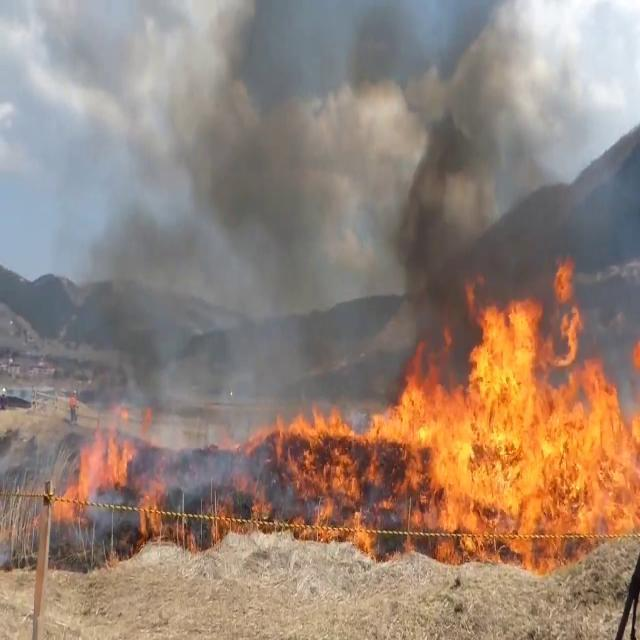Fire: (256, 258, 640, 543), (49, 402, 183, 549)
Smoke: (41, 0, 617, 396)
